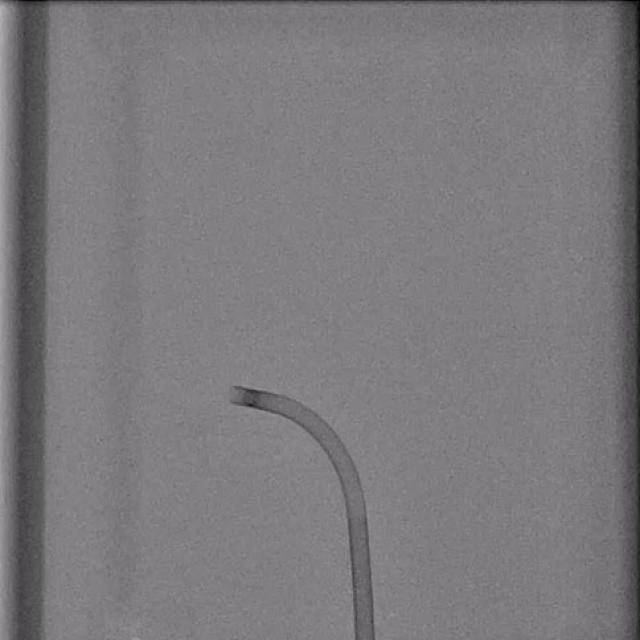bend: (346, 502, 366, 518)
entry: (354, 634, 374, 640)
marker: (242, 388, 260, 408)
tip: (228, 386, 238, 403)
